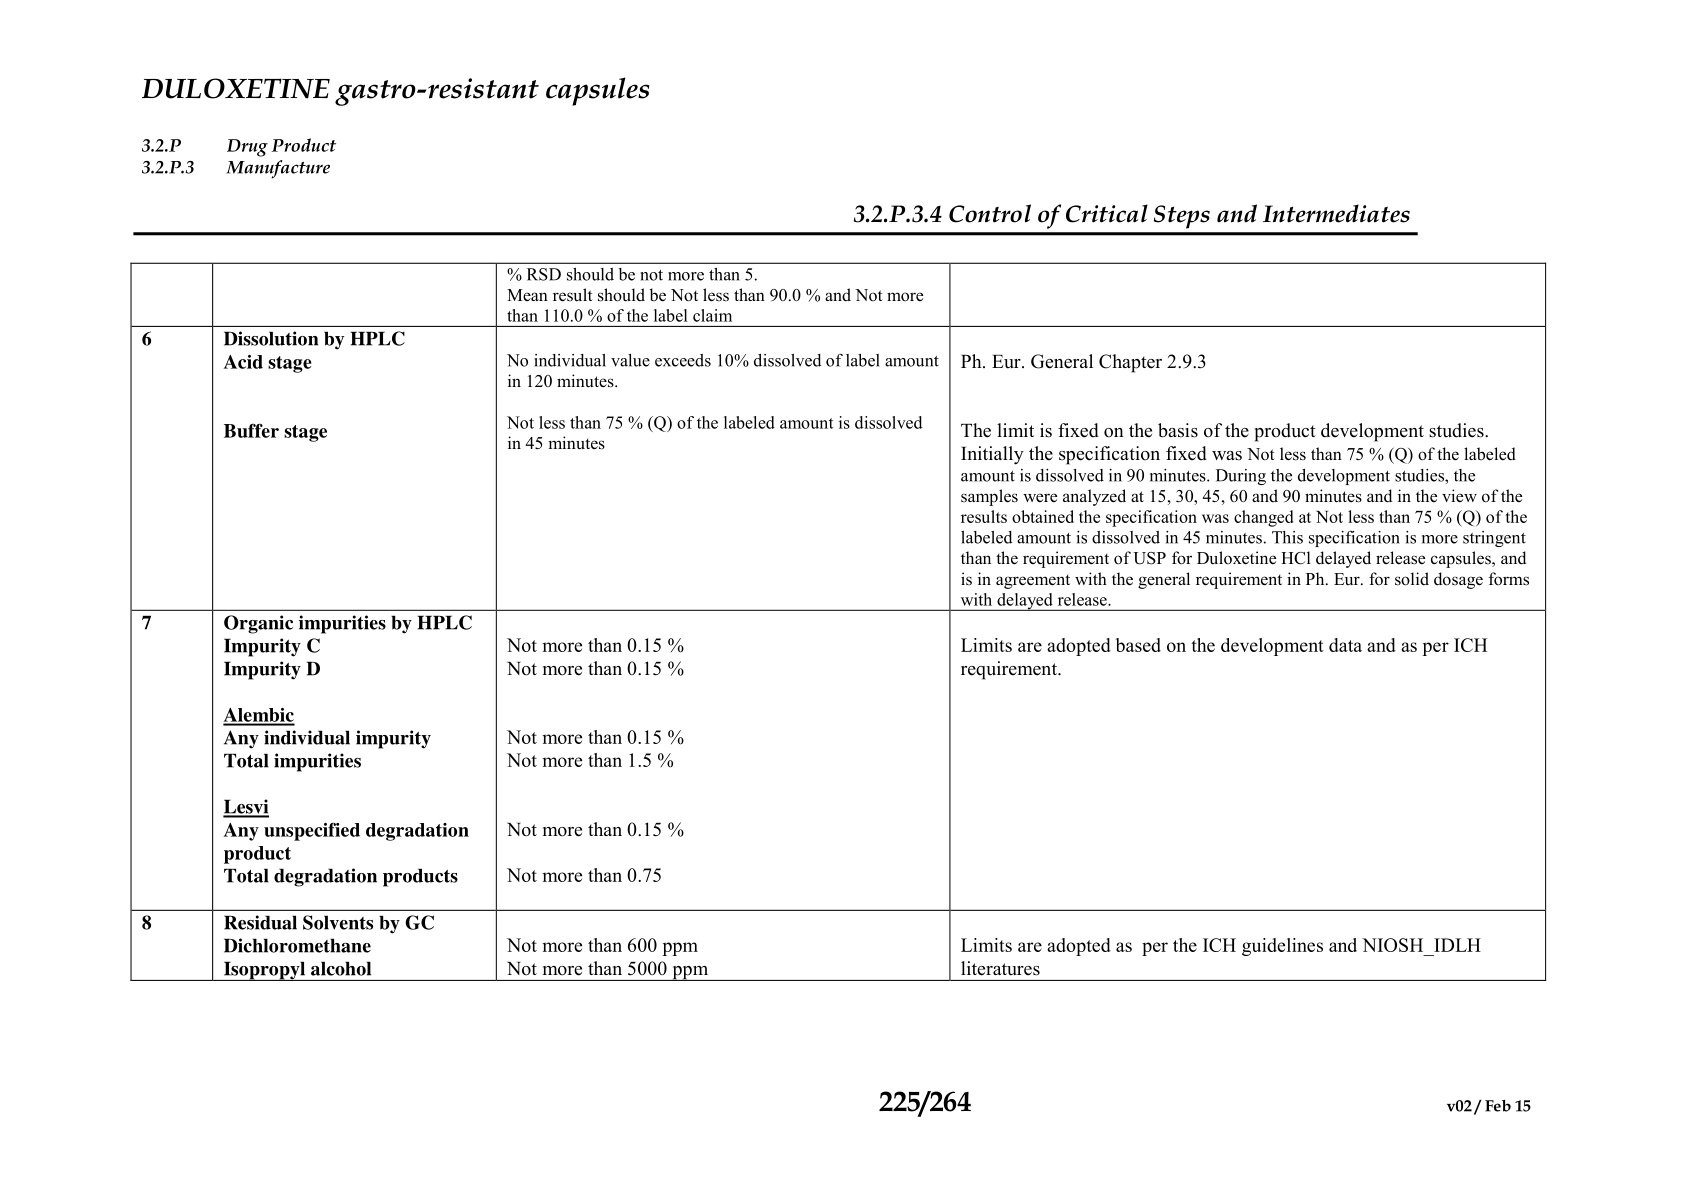full_lined: (129, 260, 1547, 982)
